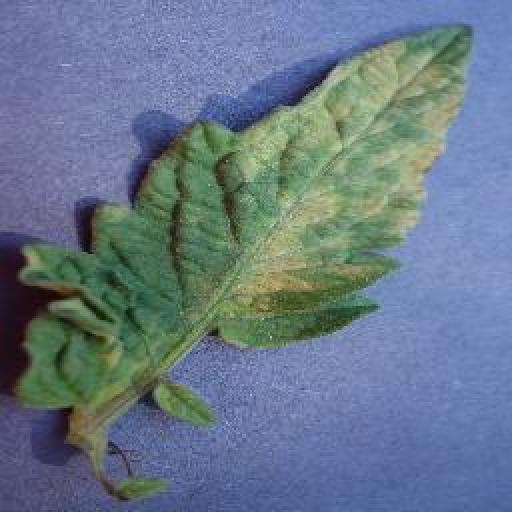disease_tomato: (21, 23, 472, 408)
